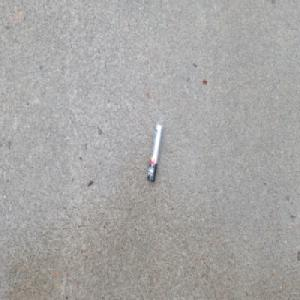Battery: (146, 122, 162, 184)
